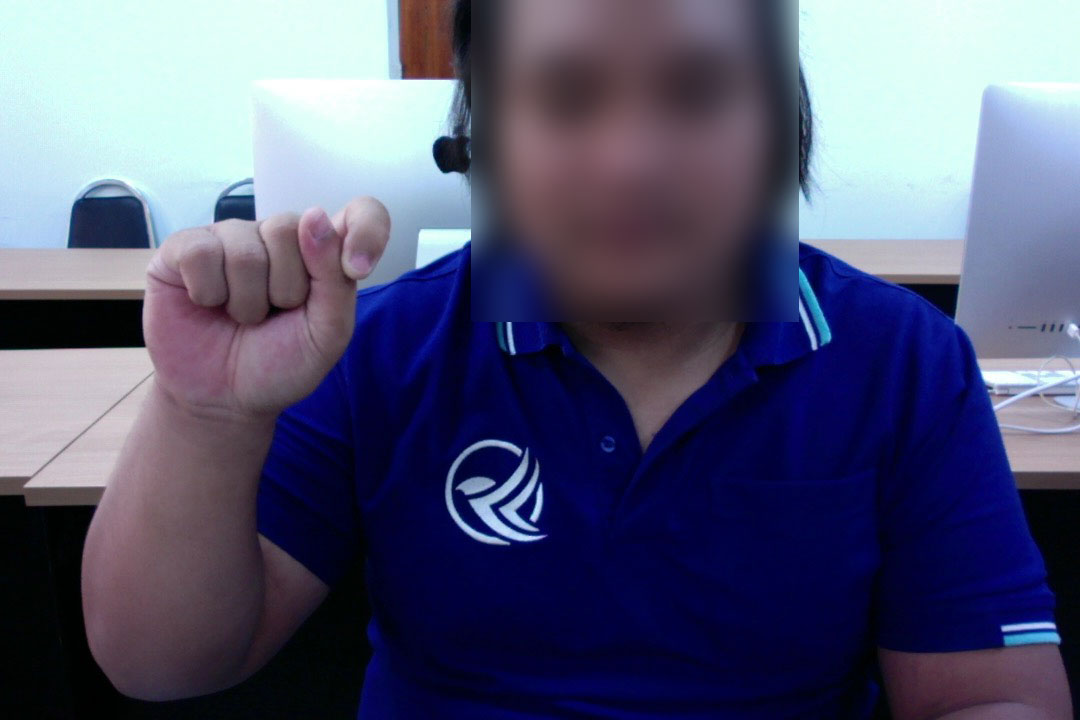tor: (133, 198, 397, 432)
